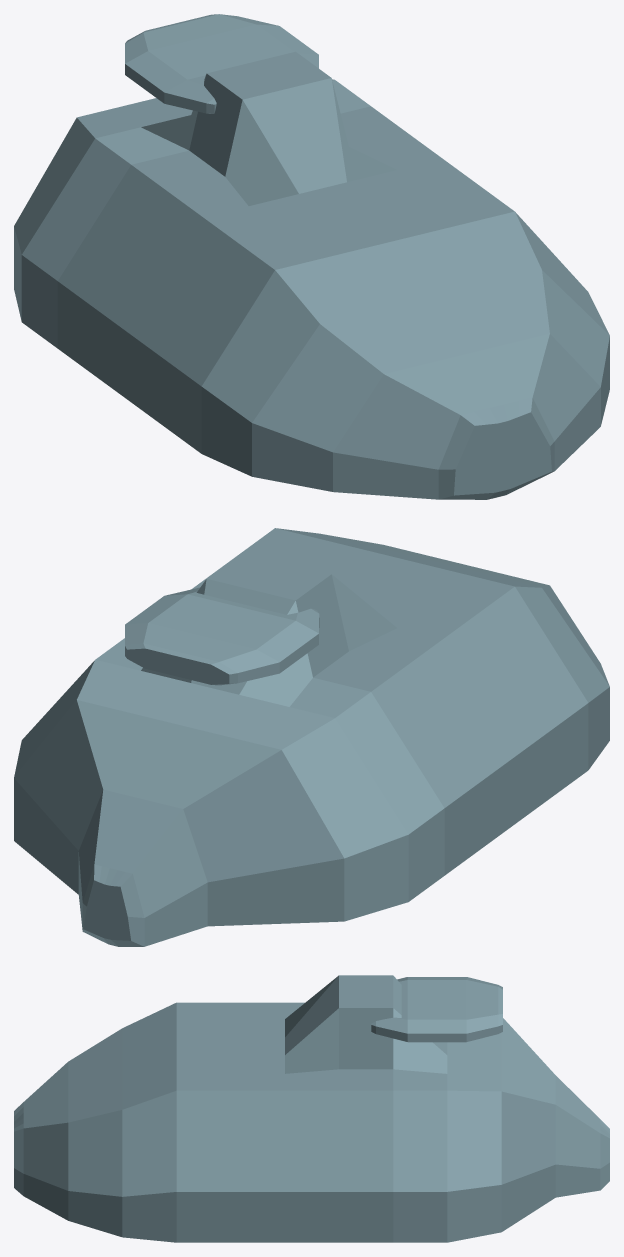
File: ballard_medium_a.glb
3 views of the same model, one above another, from view 1: azimuth 30°, elevation 25°; view 2: azimuth 150°, elevation 25°; view 3: azimuth 270°, elevation 25° (orthographic). The views are drawn at different scales.
Parts seen in each view (by area): view 1: ballard_medium_a; view 2: ballard_medium_a; view 3: ballard_medium_a.
Part boxes in pixels (x1,y1,x2,y2): ballard_medium_a: (14,14,609,499); ballard_medium_a: (14,528,609,946); ballard_medium_a: (14,975,609,1242).
Bounding box in the file's own units: 3.5 × 2.21 × 6.2.
